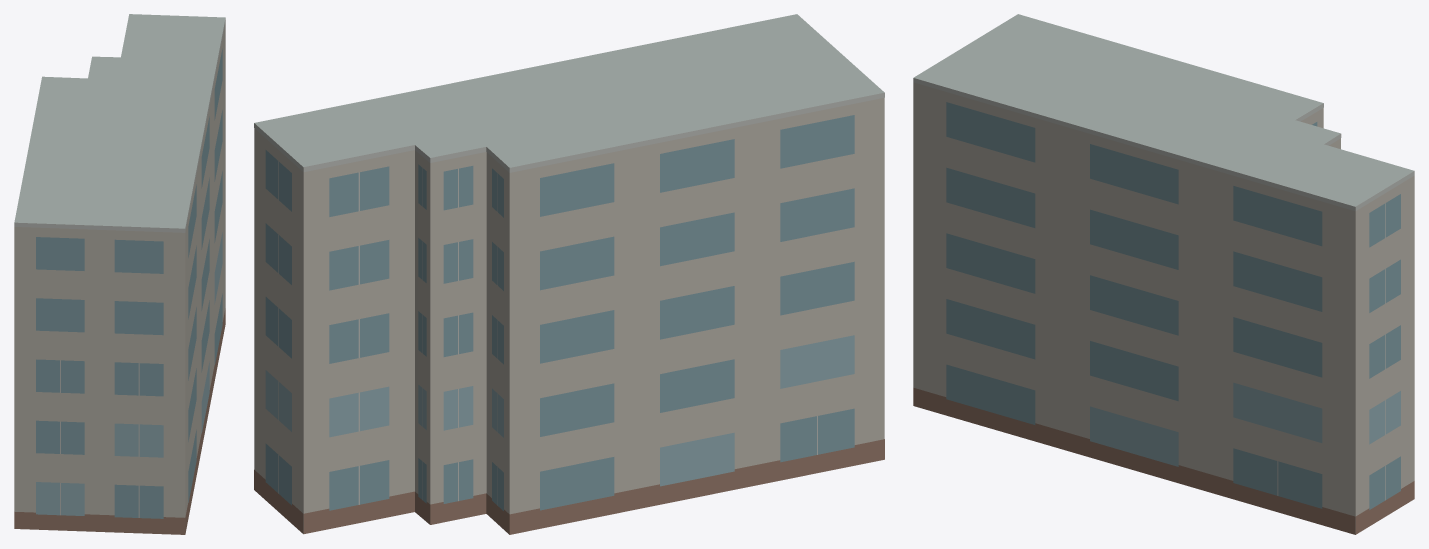
Rendered from survey-upis-32662410.glb.
3 renders of one model, left to right at view 1: azimuth 30°, elevation 25°; view 2: azimuth 150°, elevation 25°; view 3: azimuth 270°, elevation 25°, orthographic. The views are drawn at different scales.
Visible parts, largest first — view 1: survey-upis-32662410.tmp; view 2: survey-upis-32662410.tmp; view 3: survey-upis-32662410.tmp.
Part boxes in pixels (box(x1,y1,x2,y2)): survey-upis-32662410.tmp: box(14, 14, 225, 534); survey-upis-32662410.tmp: box(254, 14, 884, 534); survey-upis-32662410.tmp: box(913, 14, 1414, 534).
Bounding box in the file's own units: 22.25 × 17.65 × 24.45.
